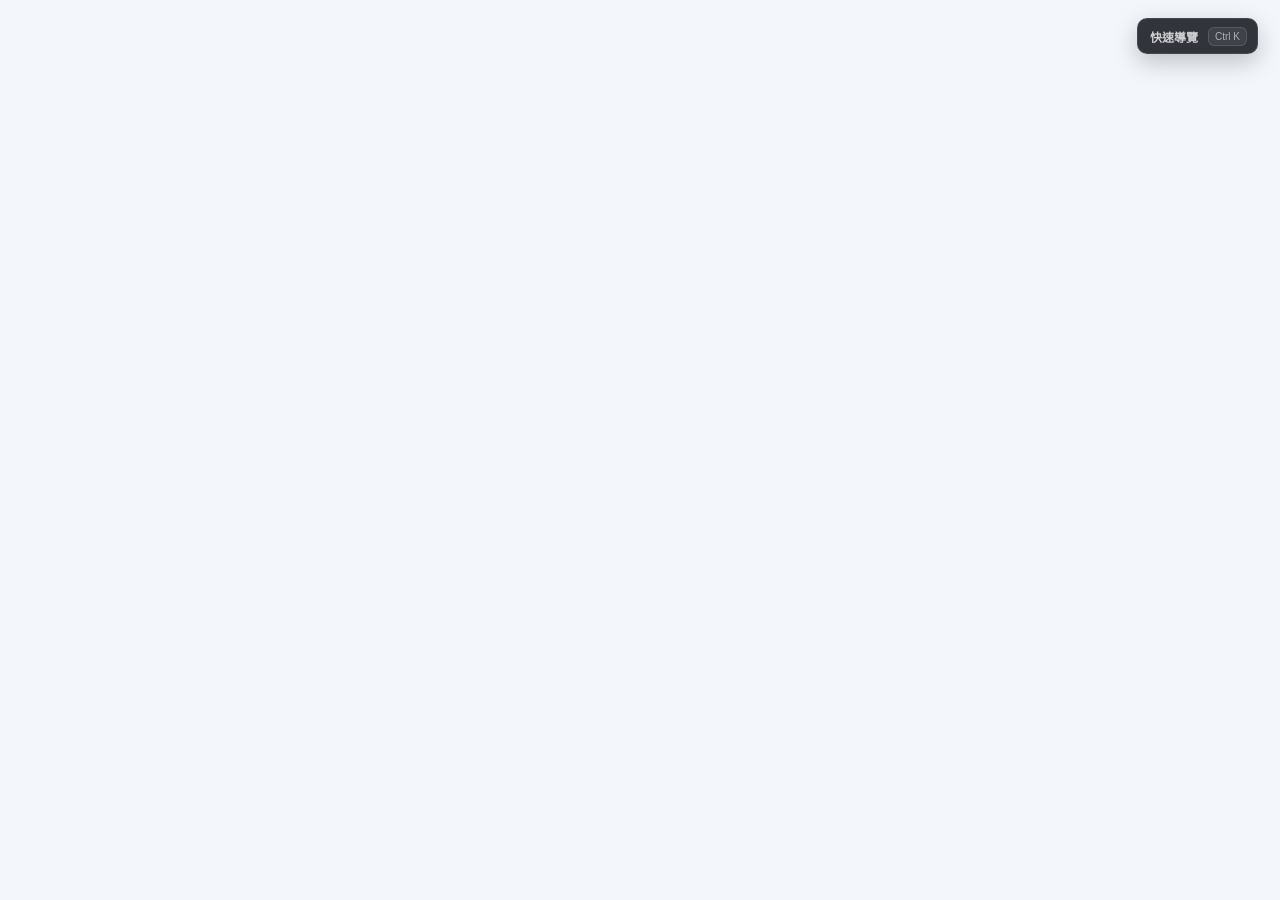
Test: WorkspaceCommandPalette › opens with Ctrl+K and filters commands
The image size is (1280, 900).
Press k
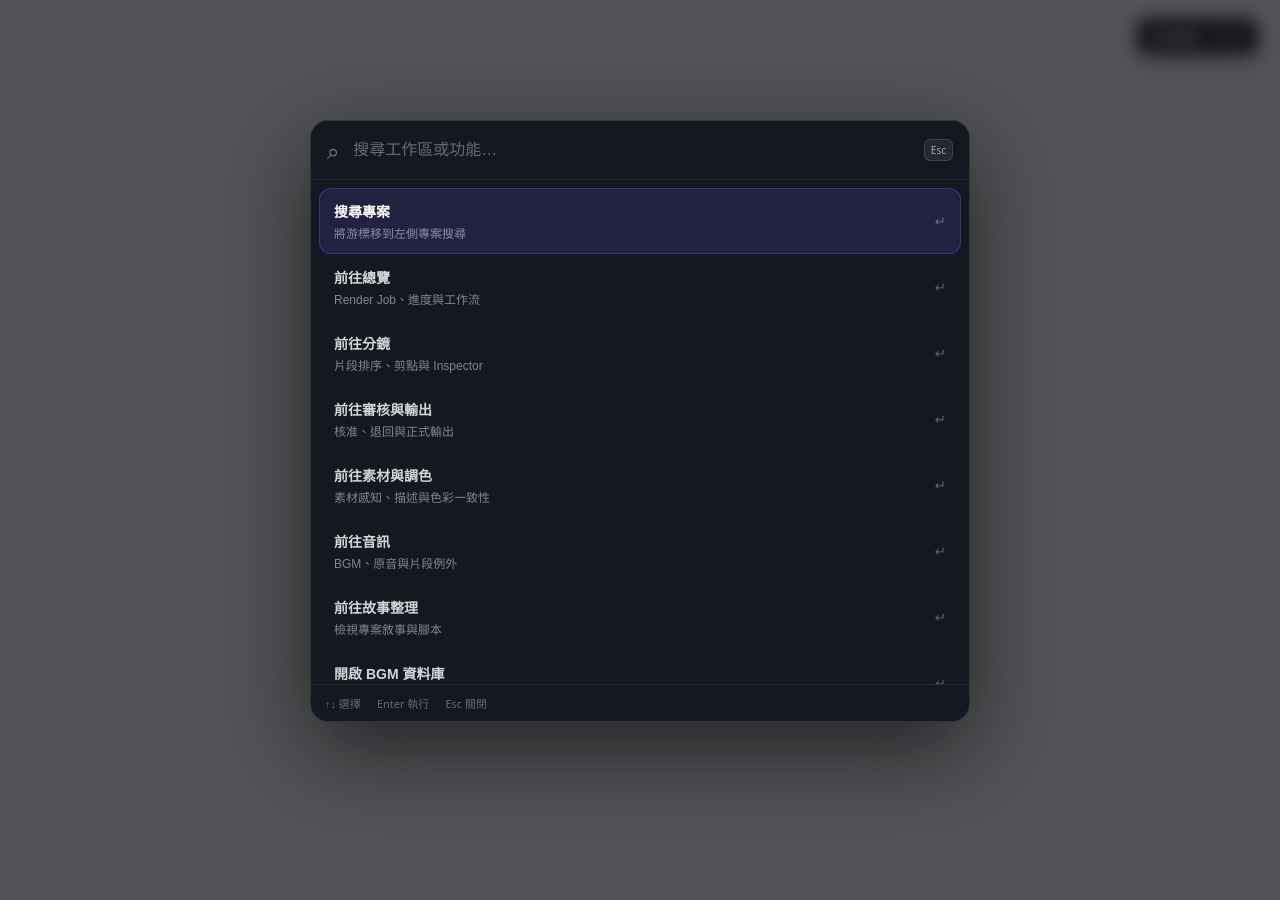
Expected: the dialog named "工作區命令面板" is shown, left=310, top=120, right=970, bottom=722
Type "音訊" into the dropdown named "搜尋命令" at (632, 150), box left=351, top=140, right=912, bottom=160
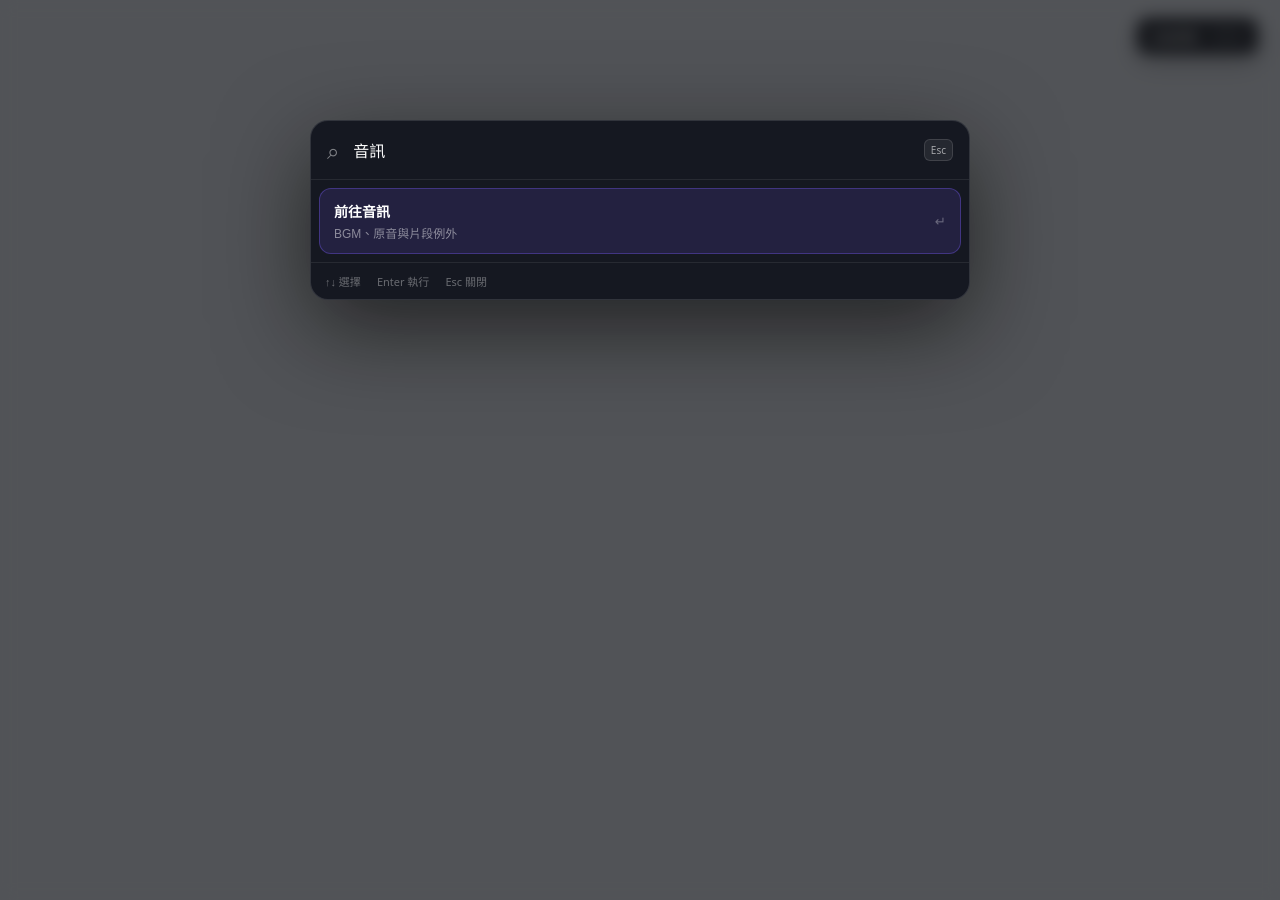
Expected: the option "前往音訊 BGM、原音與片段例外 ↵" is shown, left=319, top=188, right=961, bottom=254
Expected: the option "前往分鏡" is gone
